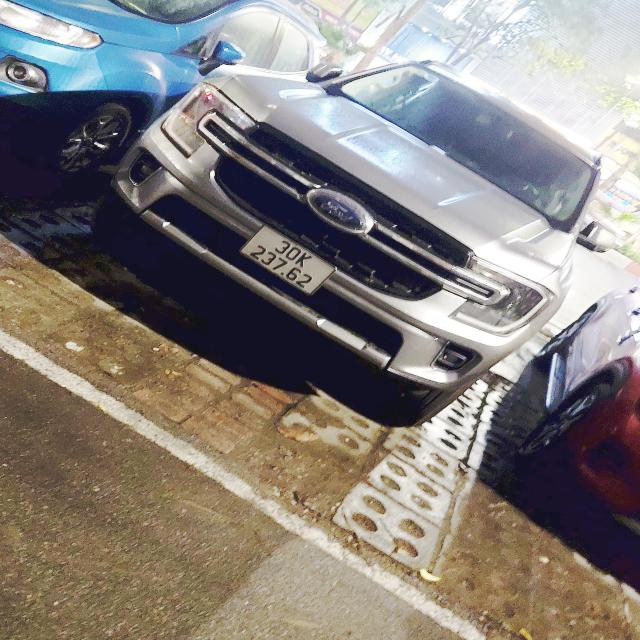license_plate: (238, 223, 341, 298)
